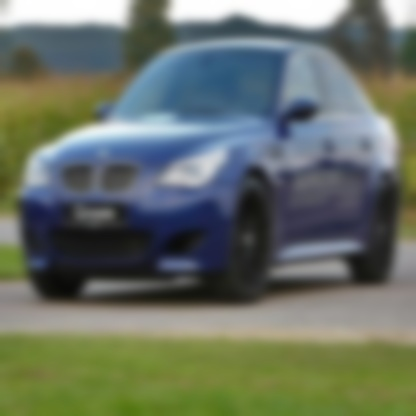Vehicle: (20, 38, 405, 304)
